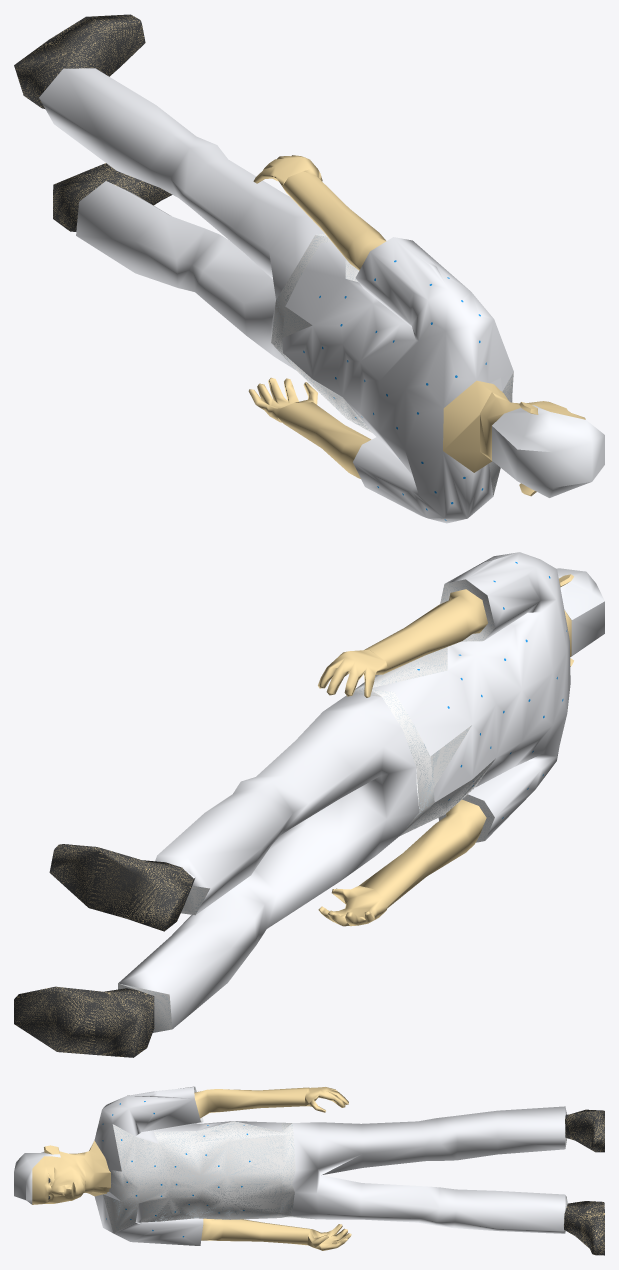
File: patient_2_state_1.dae
3 renders of one model, top to bottom at view 1: azimuth 30°, elevation 25°; view 2: azimuth 150°, elevation 25°; view 3: azimuth 270°, elevation 25°, orthographic. The views are drawn at different scales.
Parts seen in each view (by area): view 1: coords_ME_ID21_MA_material_2, coords_ME_ID29_MA_material_2, coords_ME_ID435_MA_material_8, coords_ME_ID81_MA_material_5, coords_ME_ID217_MA_material_1, coords_ME_ID415_MA_material_1, coords_ME_ID13_MA_material_1, coords_ME_ID3_MA_material, coords_ME_ID115_MA_material_5, coords_ME_ID81_MA_material_6, coords_ME_ID115_MA_material_6, coords_ME_ID3_MA_material_0; view 2: coords_ME_ID29_MA_material_2, coords_ME_ID21_MA_material_2, coords_ME_ID115_MA_material_5, coords_ME_ID81_MA_material_5, coords_ME_ID13_MA_material_1, coords_ME_ID217_MA_material_1, coords_ME_ID3_MA_material, coords_ME_ID435_MA_material_8, coords_ME_ID81_MA_material_6, coords_ME_ID115_MA_material_6, coords_ME_ID3_MA_material_0, coords_ME_ID193_MA_material (+1 smaller); view 3: coords_ME_ID29_MA_material_2, coords_ME_ID3_MA_material, coords_ME_ID21_MA_material_2, coords_ME_ID3_MA_material_0, coords_ME_ID415_MA_material_1, coords_ME_ID217_MA_material_1, coords_ME_ID13_MA_material_1, coords_ME_ID115_MA_material_5, coords_ME_ID81_MA_material_5, coords_ME_ID435_MA_material_8, coords_ME_ID115_MA_material_6, coords_ME_ID81_MA_material_6.
Part boxes in pixels (x1=…): coords_ME_ID21_MA_material_2: x1=282, y1=237, x2=513, y2=523; coords_ME_ID29_MA_material_2: x1=39, y1=68, x2=324, y2=369; coords_ME_ID435_MA_material_8: x1=492, y1=405, x2=604, y2=497; coords_ME_ID81_MA_material_5: x1=14, y1=14, x2=145, y2=108; coords_ME_ID217_MA_material_1: x1=253, y1=155, x2=386, y2=270; coords_ME_ID415_MA_material_1: x1=443, y1=380, x2=585, y2=496; coords_ME_ID13_MA_material_1: x1=248, y1=377, x2=371, y2=478; coords_ME_ID3_MA_material: x1=271, y1=233, x2=513, y2=495; coords_ME_ID115_MA_material_5: x1=53, y1=163, x2=172, y2=231; coords_ME_ID81_MA_material_6: x1=16, y1=15, x2=143, y2=108; coords_ME_ID115_MA_material_6: x1=53, y1=163, x2=169, y2=230; coords_ME_ID3_MA_material_0: x1=272, y1=234, x2=513, y2=494; coords_ME_ID29_MA_material_2: x1=118, y1=693, x2=419, y2=1028; coords_ME_ID21_MA_material_2: x1=372, y1=552, x2=570, y2=840; coords_ME_ID115_MA_material_5: x1=14, y1=986, x2=154, y2=1057; coords_ME_ID81_MA_material_5: x1=49, y1=844, x2=193, y2=931; coords_ME_ID13_MA_material_1: x1=318, y1=799, x2=486, y2=926; coords_ME_ID217_MA_material_1: x1=318, y1=589, x2=487, y2=697; coords_ME_ID3_MA_material: x1=353, y1=647, x2=495, y2=836; coords_ME_ID435_MA_material_8: x1=556, y1=568, x2=604, y2=657; coords_ME_ID81_MA_material_6: x1=50, y1=845, x2=192, y2=930; coords_ME_ID115_MA_material_6: x1=14, y1=987, x2=154, y2=1056; coords_ME_ID3_MA_material_0: x1=355, y1=648, x2=493, y2=834; coords_ME_ID193_MA_material: x1=440, y1=579, x2=495, y2=641; coords_ME_ID29_MA_material_2: x1=292, y1=1106, x2=566, y2=1233; coords_ME_ID3_MA_material: x1=103, y1=1121, x2=316, y2=1233; coords_ME_ID21_MA_material_2: x1=94, y1=1086, x2=281, y2=1245; coords_ME_ID3_MA_material_0: x1=103, y1=1121, x2=308, y2=1231; coords_ME_ID415_MA_material_1: x1=32, y1=1141, x2=110, y2=1204; coords_ME_ID217_MA_material_1: x1=194, y1=1087, x2=348, y2=1118; coords_ME_ID13_MA_material_1: x1=201, y1=1218, x2=351, y2=1250; coords_ME_ID115_MA_material_5: x1=564, y1=1201, x2=604, y2=1255; coords_ME_ID81_MA_material_5: x1=565, y1=1109, x2=604, y2=1152; coords_ME_ID435_MA_material_8: x1=14, y1=1152, x2=60, y2=1204; coords_ME_ID115_MA_material_6: x1=564, y1=1201, x2=604, y2=1254; coords_ME_ID81_MA_material_6: x1=565, y1=1110, x2=604, y2=1151.
Bounding box in the file's own units: 3.69 × 5.65 × 18.65.
